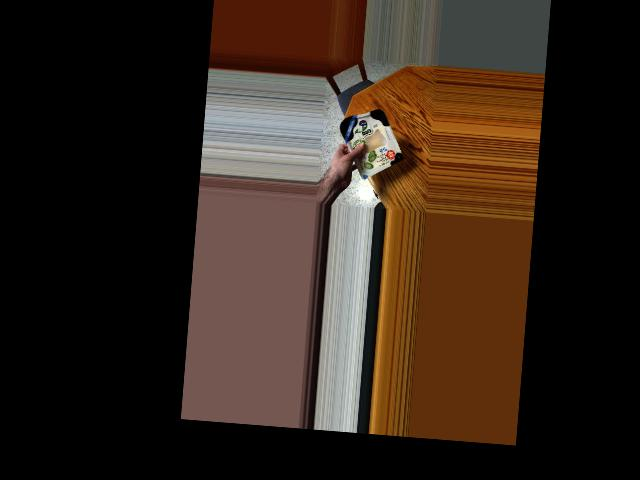cheese: (337, 107, 402, 173)
